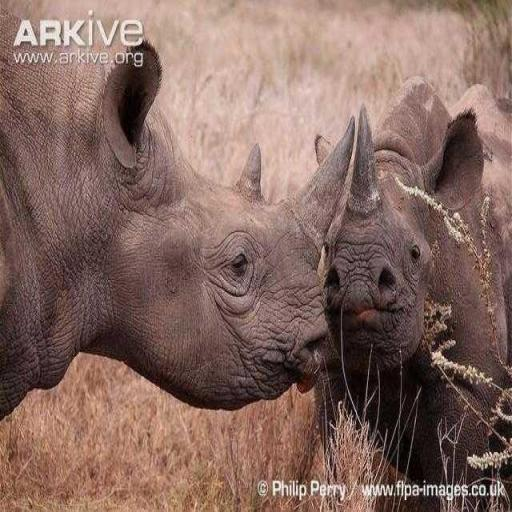Rhino: (0, 4, 355, 426), (307, 73, 511, 511)
